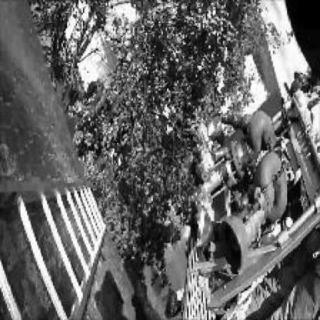other: (225, 104, 288, 270)
